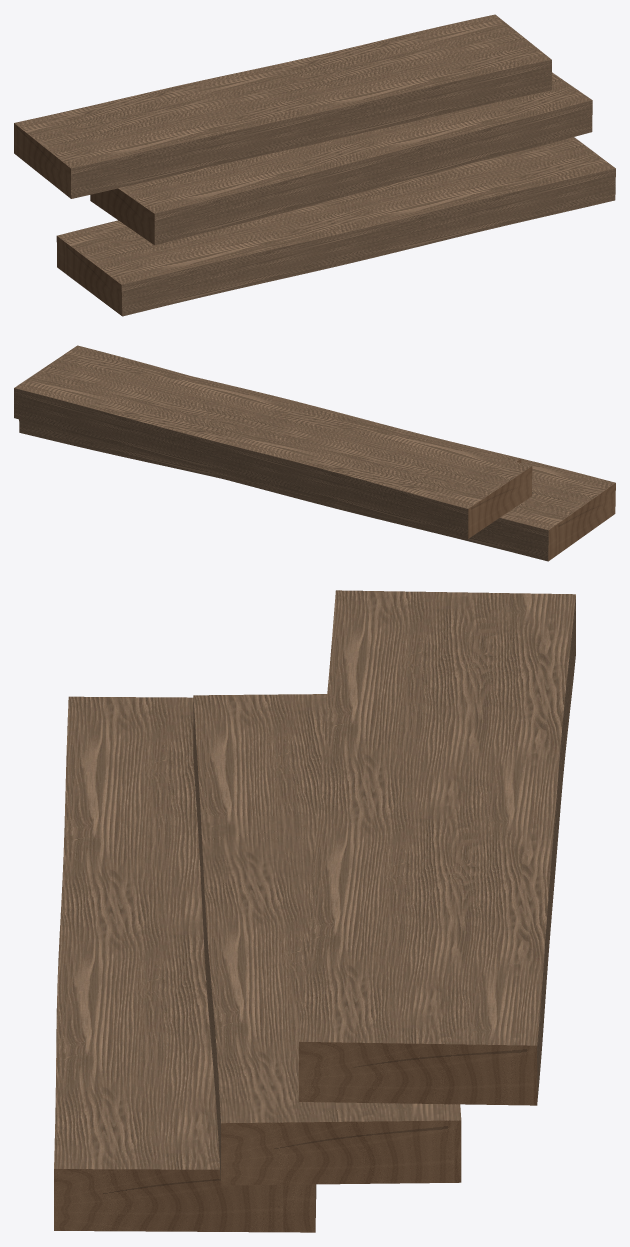
Rendered from ProjectGenesis_Roble_Tablas_V021.glb.
The picture shows the model from 3 angles, top to bottom: view 1: azimuth 30°, elevation 25°; view 2: azimuth 150°, elevation 25°; view 3: azimuth 270°, elevation 25°; orthographic projection. The views are drawn at different scales.
Visible parts, largest first — view 1: ROBLE_V021_TABLA_03, ROBLE_V021_TABLA_01, ROBLE_V021_TABLA_02; view 2: ROBLE_V021_TABLA_03, ROBLE_V021_TABLA_01, ROBLE_V021_TABLA_02; view 3: ROBLE_V021_TABLA_03, ROBLE_V021_TABLA_01, ROBLE_V021_TABLA_02.
Part boxes in pixels (x1,y1,x2,y2): ROBLE_V021_TABLA_03: (14, 14, 551, 198); ROBLE_V021_TABLA_01: (56, 137, 615, 316); ROBLE_V021_TABLA_02: (90, 72, 592, 245); ROBLE_V021_TABLA_03: (14, 345, 532, 538); ROBLE_V021_TABLA_01: (195, 377, 615, 561); ROBLE_V021_TABLA_02: (19, 419, 521, 521); ROBLE_V021_TABLA_03: (299, 590, 575, 1105); ROBLE_V021_TABLA_01: (54, 696, 316, 1232); ROBLE_V021_TABLA_02: (193, 694, 461, 1185).
Bounding box in the file's own units: 1.73 × 0.3104 × 0.7796.
Materials: 2 (2 with a texture image).
